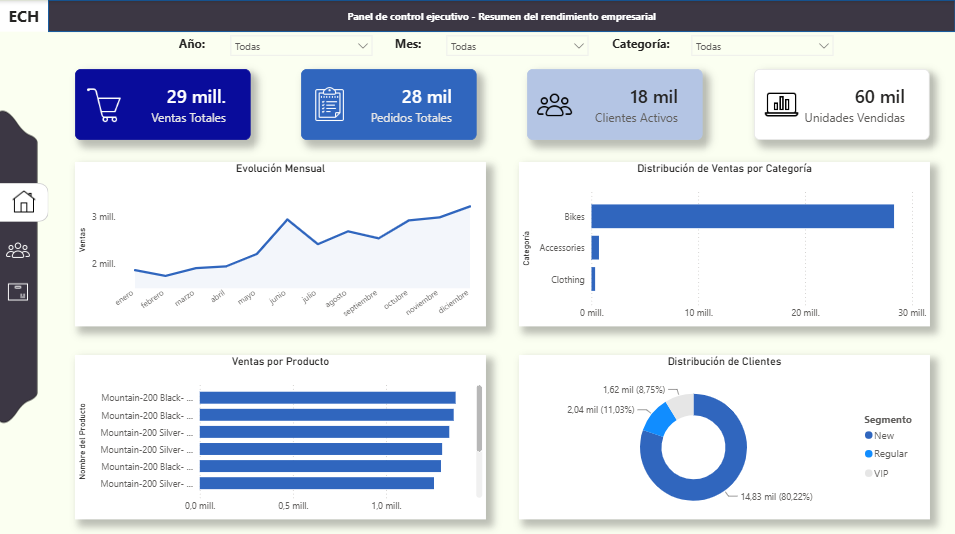

Layout of this report page (visuals, bound fields, positions):
{"tool":"powerbi","page":{"name":"Resumen_ejecutivo","canvas":[1280,720],"ordinal":1},"visuals":[{"type":"image","box":[0,3.8,175,60],"z":0},{"type":"group","id":"g1","title":"Grupo 1","box":[0,181.7,185,61.7],"z":1000},{"type":"shape","box":[0,181.7,185,61.7],"z":1000,"group":"g1"},{"type":"group","id":"g2","title":"Grupo 2","box":[0,264.3,185,61],"z":2000},{"type":"shape","box":[0,264.3,185,61],"z":2000,"group":"g2"},{"type":"shape","box":[6.9,184.6,55.4,55.4],"z":3000,"group":"g1"},{"type":"group","id":"g3","title":"Grupo 3","box":[0,346.3,185,61.7],"z":3000},{"type":"textbox","box":[62.4,267.8,112.9,53.5],"z":4000,"group":"g2"},{"type":"group","id":"g4","title":"Grupo 4","box":[0,428.9,185,61.7],"z":4000},{"type":"shape","box":[0,346.3,185,61.7],"z":5000,"group":"g3"},{"type":"group","id":"g5","title":"Grupo 5","box":[0,511.5,185,61.7],"z":5000},{"type":"cardVisual","fields":{"Data":["Med_Ventas.Ventas_totales"]},"box":[199.5,52.6,189.8,98.4],"z":6000},{"type":"shape","box":[0,428.9,185,61.7],"z":6000,"group":"g4"},{"type":"cardVisual","fields":{"Data":["Med_Ventas.Unidades_vendidas"]},"box":[419.3,52.6,189,98.4],"z":7000},{"type":"shape","box":[6.9,267.4,55.4,55.4],"z":7000,"group":"g2"},{"type":"cardVisual","fields":{"Data":["Med_Ventas.Utilidad_bruta"]},"box":[638.3,52.6,189,98.4],"z":8000},{"type":"shape","box":[6.9,349.2,55.4,55.4],"z":8000,"group":"g3"},{"type":"cardVisual","fields":{"Data":["Med_Ventas.%_Margen_bruto"]},"box":[857.3,52.6,189,98.4],"z":9000},{"type":"textbox","box":[62,439.9,119,39],"z":9000,"group":"g4"},{"type":"cardVisual","fields":{"Data":["Med_Inventario.Valor_inventario"]},"box":[1076.4,52.6,189,98.4],"z":10000},{"type":"shape","box":[6.9,432,55.4,55.4],"z":10000,"group":"g4"},{"type":"lineChart","fields":{"Y":["Med_Ventas.Ventas_totales"],"Category":["Dim_Calendario.Año Mes"]},"box":[200,164.3,742.9,275.7],"z":11000},{"type":"textbox","box":[78.7,194.7,78.7,41.3],"z":11000,"group":"g1"},{"type":"barChart","fields":{"Category":["Dim_Productos.Tipo (Producto / Servicio)"],"Y":["Med_Ventas.Ventas_totales"]},"box":[200,460,742.9,238.6],"z":12000},{"type":"shape","box":[0,511.5,185,61.7],"z":12000,"group":"g5"},{"type":"image","box":[14,277.3,42,36],"z":12001,"group":"g2"},{"type":"barChart","fields":{"Category":["Dim_Productos.NombreProducto"],"Y":["Med_Ventas.Unidades_vendidas"]},"box":[957.2,164.8,307.5,533.3],"z":13000},{"type":"shape","box":[6.9,514.6,55.4,55.4],"z":13000,"group":"g5"},{"type":"image","box":[14,358.6,41,36],"z":14000,"group":"g3"},{"type":"image","box":[16,443.9,39,32],"z":15000,"group":"g4"},{"type":"image","box":[14,523,41,38],"z":16000,"group":"g5"},{"type":"textbox","box":[64,358.6,117,38],"z":17000,"group":"g3"},{"type":"textbox","box":[55,523,127,40],"z":18000,"group":"g5"},{"type":"image","box":[11.5,193.9,47.7,36.9],"z":19000,"group":"g1"}]}

Visuals, with their boxes on the page's 1280x720 design canvas (x1, y1, x2, y2). These are canvas units, not pixel positions in the 955x534 screenshot, which may show the page scaled, cropped or inside an application window:
image: left=0, top=4, right=175, bottom=64
"Grupo 1" group: left=0, top=182, right=185, bottom=243
shape: left=0, top=182, right=185, bottom=243
"Grupo 2" group: left=0, top=264, right=185, bottom=325
shape: left=0, top=264, right=185, bottom=325
shape: left=7, top=185, right=62, bottom=240
"Grupo 3" group: left=0, top=346, right=185, bottom=408
textbox: left=62, top=268, right=175, bottom=321
"Grupo 4" group: left=0, top=429, right=185, bottom=491
shape: left=0, top=346, right=185, bottom=408
"Grupo 5" group: left=0, top=512, right=185, bottom=573
cardVisual - Med_Ventas.Ventas_totales: left=200, top=53, right=389, bottom=151
shape: left=0, top=429, right=185, bottom=491
cardVisual - Med_Ventas.Unidades_vendidas: left=419, top=53, right=608, bottom=151
shape: left=7, top=267, right=62, bottom=323
cardVisual - Med_Ventas.Utilidad_bruta: left=638, top=53, right=827, bottom=151
shape: left=7, top=349, right=62, bottom=405
cardVisual - Med_Ventas.%_Margen_bruto: left=857, top=53, right=1046, bottom=151
textbox: left=62, top=440, right=181, bottom=479
cardVisual - Med_Inventario.Valor_inventario: left=1076, top=53, right=1265, bottom=151
shape: left=7, top=432, right=62, bottom=487
lineChart - Med_Ventas.Ventas_totales x Dim_Calendario.Año Mes: left=200, top=164, right=943, bottom=440
textbox: left=79, top=195, right=157, bottom=236
barChart - Dim_Productos.Tipo (Producto / Servicio) x Med_Ventas.Ventas_totales: left=200, top=460, right=943, bottom=699
shape: left=0, top=512, right=185, bottom=573
image: left=14, top=277, right=56, bottom=313
barChart - Dim_Productos.NombreProducto x Med_Ventas.Unidades_vendidas: left=957, top=165, right=1265, bottom=698
shape: left=7, top=515, right=62, bottom=570
image: left=14, top=359, right=55, bottom=395
image: left=16, top=444, right=55, bottom=476
image: left=14, top=523, right=55, bottom=561
textbox: left=64, top=359, right=181, bottom=397
textbox: left=55, top=523, right=182, bottom=563
image: left=12, top=194, right=59, bottom=231
